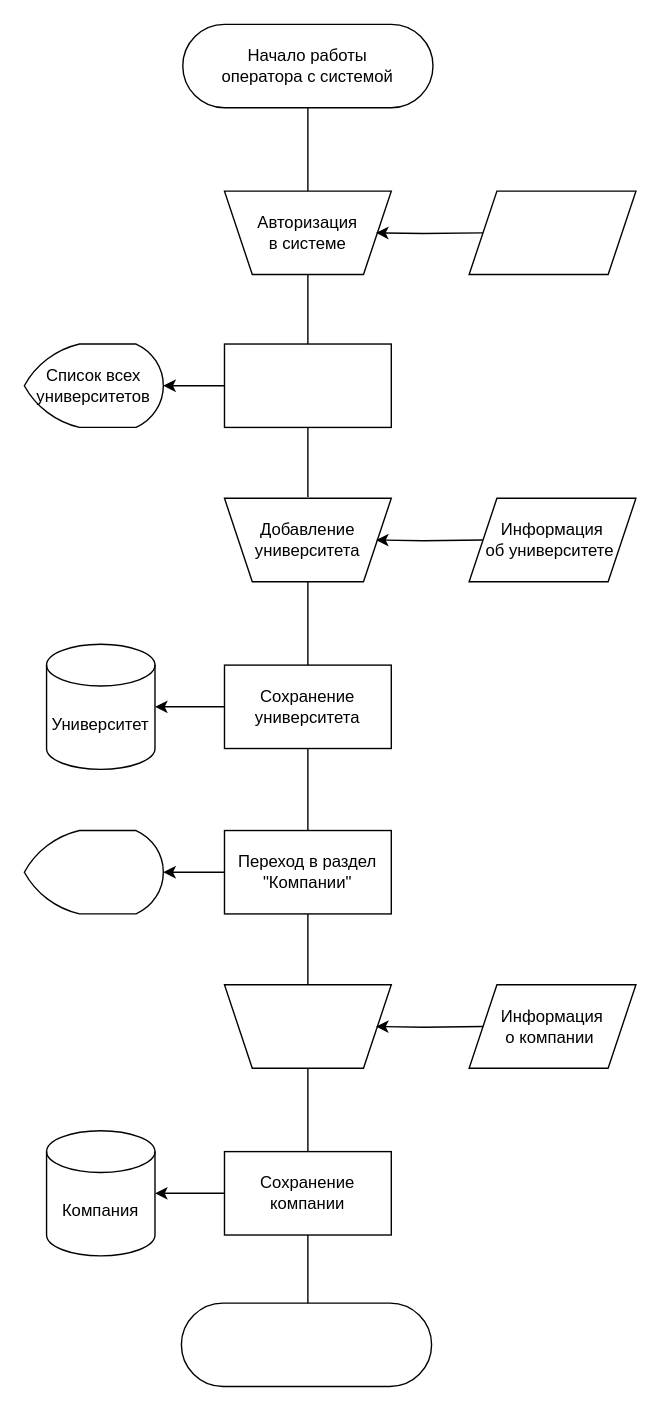
Some shapes in this 660 by 1411 pixel diagram are drawn without their labels. Each missing label, with the box of its shape:
Данные для входа и доступа: (468, 190, 636, 275)
Добавление компании: (223, 983, 391, 1068)
Конец работы оператора с системой: (180, 1302, 432, 1387)
Переход в раздел "Университеты": (223, 343, 391, 427)
Список всех компаний: (23, 829, 163, 914)
